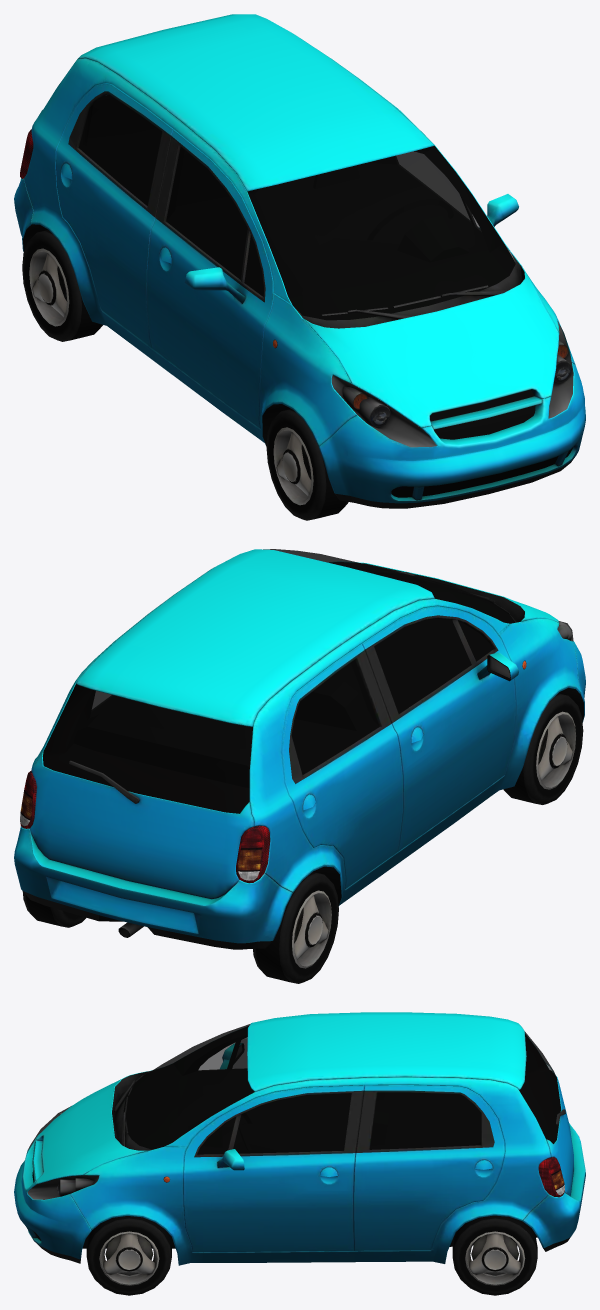
Rendered from car-compact.glb.
3 views of the same model, one above another, from view 1: azimuth 30°, elevation 25°; view 2: azimuth 150°, elevation 25°; view 3: azimuth 270°, elevation 25° (orthographic). The views are drawn at different scales.
Parts seen in each view (by area): view 1: Compact Body_Body_0, Compact Body_Glass_0, Wheel_C003_Wheel_0, Wheel_C002_Wheel_0, Compact Body_Optics_0; view 2: Compact Body_Body_0, Compact Body_Glass_0, Wheel_C002_Wheel_0, Wheel_C003_Wheel_0, Compact Body_Optics_0, Wheel_C001_Wheel_0; view 3: Compact Body_Body_0, Compact Body_Glass_0, Wheel_C001_Wheel_0, Wheel_C_Wheel_0, Compact Body_Optics_0.
Boxes of the visible parts, left/top/right/bottom form: Compact Body_Body_0: left=14, top=14, right=585, bottom=508; Compact Body_Glass_0: left=59, top=84, right=573, bottom=447; Wheel_C003_Wheel_0: left=266, top=409, right=348, bottom=520; Wheel_C002_Wheel_0: left=22, top=229, right=102, bottom=341; Compact Body_Optics_0: left=20, top=129, right=571, bottom=426; Compact Body_Body_0: left=14, top=549, right=585, bottom=949; Compact Body_Glass_0: left=43, top=549, right=573, bottom=813; Wheel_C002_Wheel_0: left=253, top=872, right=338, bottom=983; Wheel_C003_Wheel_0: left=503, top=693, right=583, bottom=804; Compact Body_Optics_0: left=20, top=660, right=526, bottom=883; Wheel_C001_Wheel_0: left=22, top=891, right=86, bottom=927; Compact Body_Body_0: left=14, top=1012, right=585, bottom=1265; Compact Body_Glass_0: left=27, top=1024, right=560, bottom=1199; Wheel_C001_Wheel_0: left=452, top=1215, right=537, bottom=1295; Wheel_C_Wheel_0: left=86, top=1216, right=171, bottom=1295; Compact Body_Optics_0: left=57, top=1157, right=564, bottom=1197.
Bounding box in the file's own units: 1.61 × 1.32 × 3.26.
Materials: 4 (3 with a texture image).
